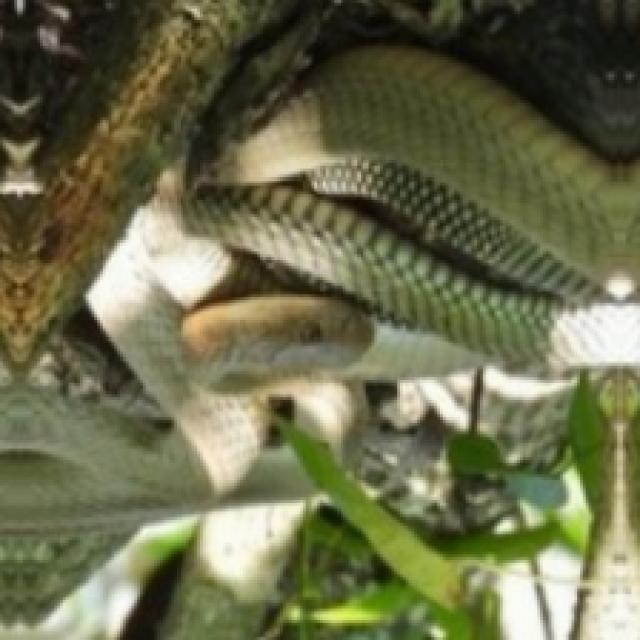king cobra: (0, 0, 637, 623), (420, 423, 526, 534), (317, 560, 423, 626), (197, 580, 317, 637), (597, 420, 637, 569), (563, 563, 637, 637)
